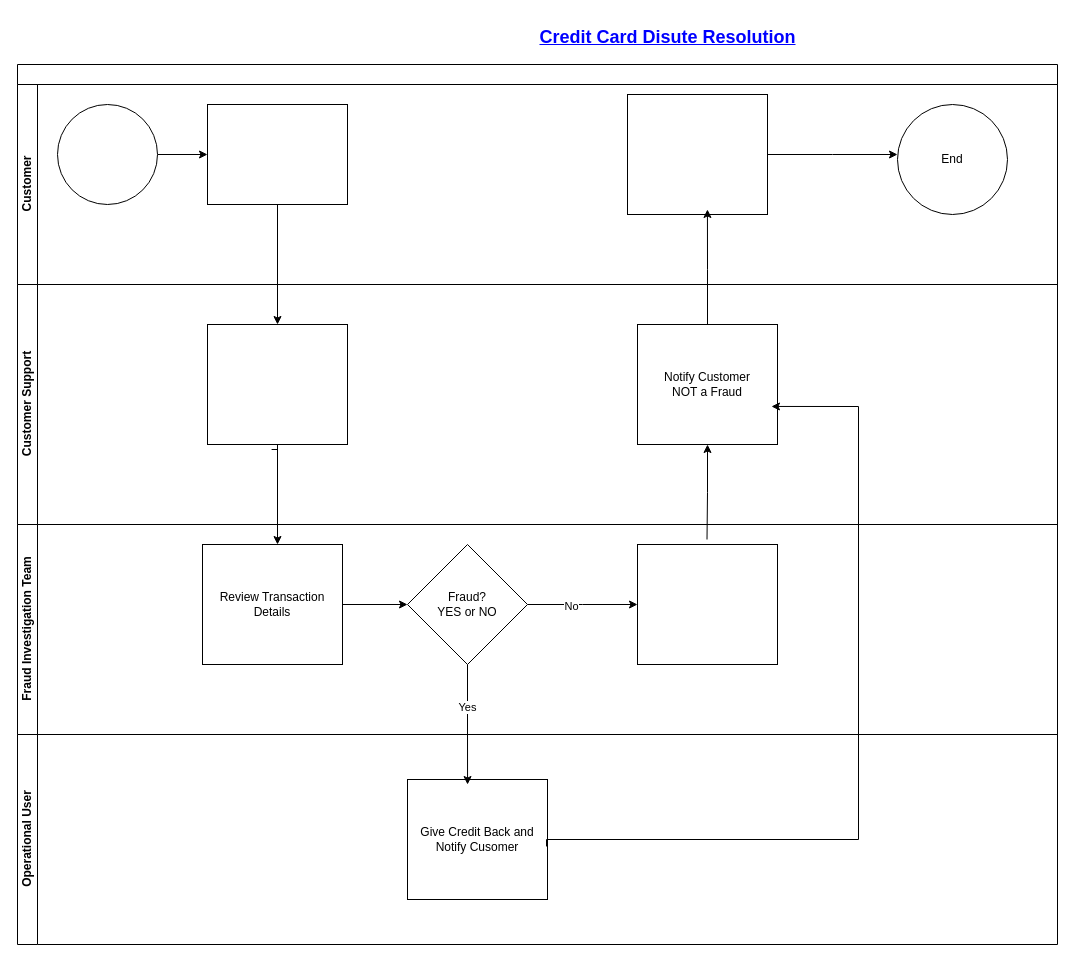
Image size: 1075x962. Some labels were removed from this diagram. The shapes that lost their labels are listed below. From the top down, each one's centre as x and y in pixels, then its label:
At point 107,154: "Start".
At point 277,154: "Reports Unauthorized Transaction".
At point 697,154: "Notify the Cusomer".
At point 277,384: "Logs Complaint and Block the Card".
At point 707,604: "Not a Fraud".
